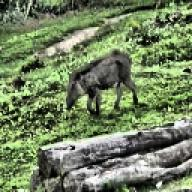boar: (63, 48, 138, 116)
